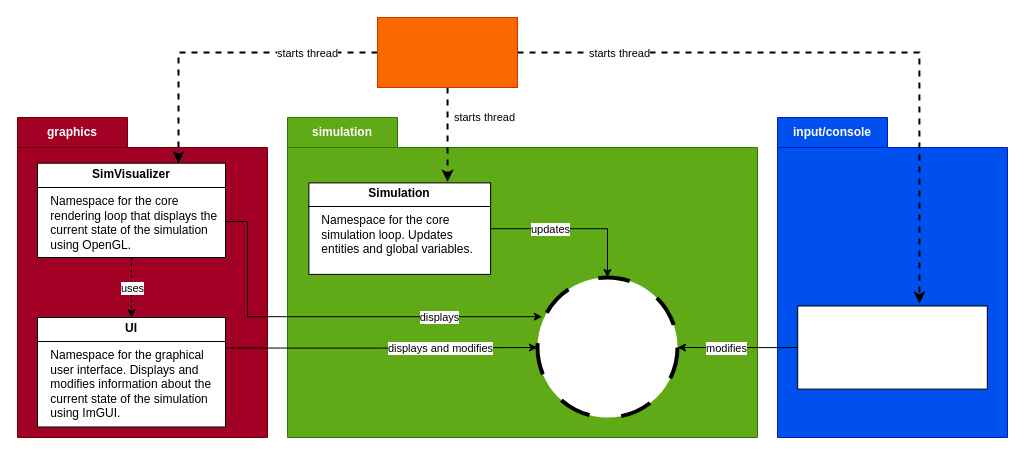
Some shapes in this 1025 by 455 pixel diagram are drawn without their labels. Here are the shapes that lost their labels. From the top down, the centre of each, then its label:
the point at 447,52: eriks_wasp_sim.cpp
the point at 607,347: <Simulation state>
the point at 892,347: Console Namespace for console input handling. Reads and executes user commands.
